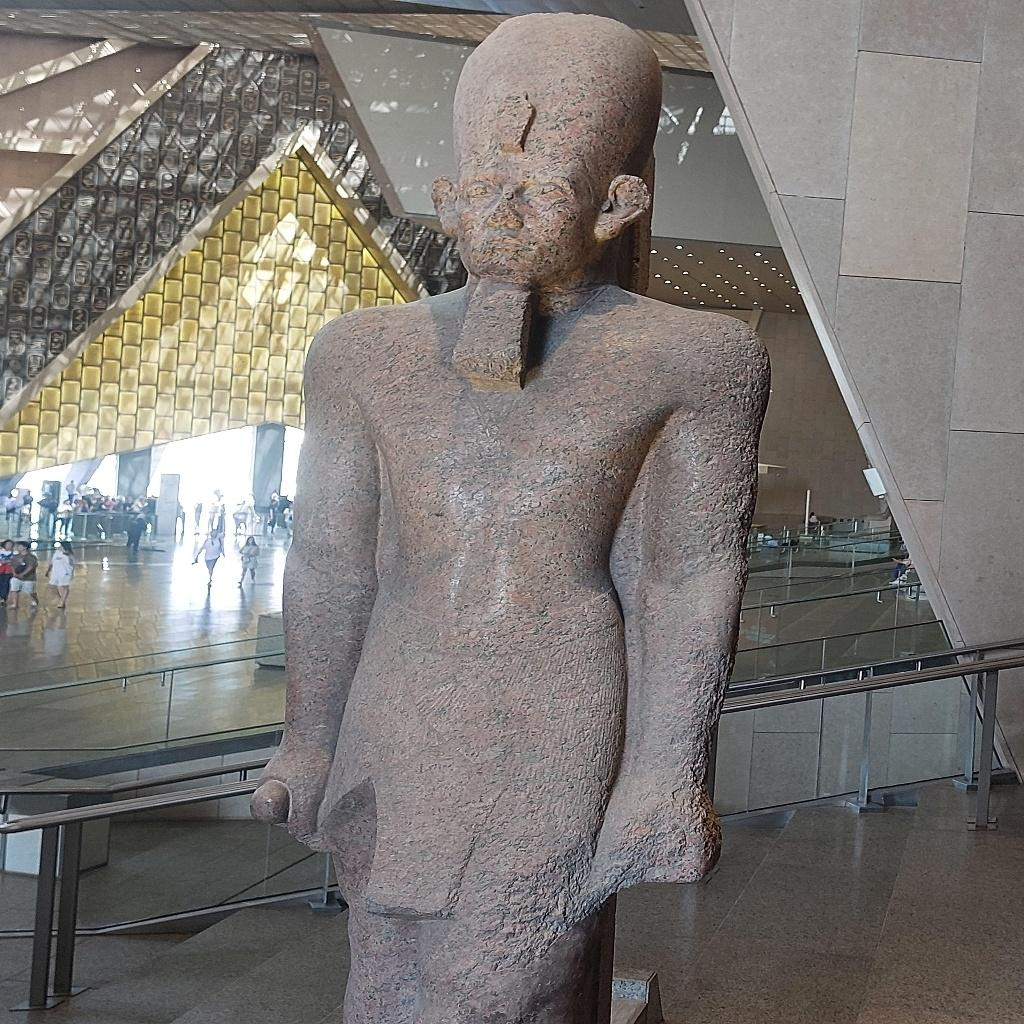Colossal Statue of King Senwosret IlI: (244, 12, 776, 1020)
